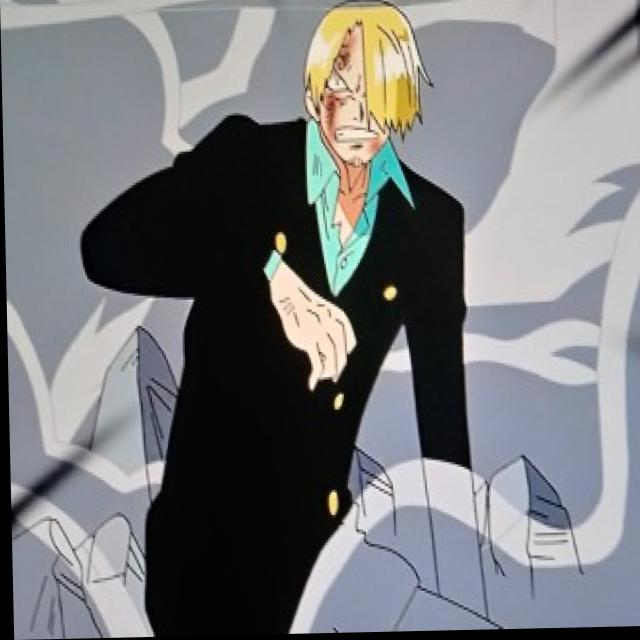Sangdi: (281, 0, 442, 176)
